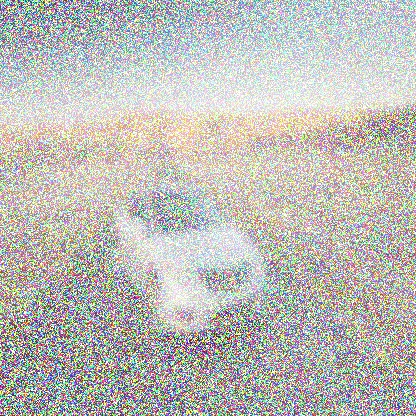Vehicle: (113, 184, 267, 338)
